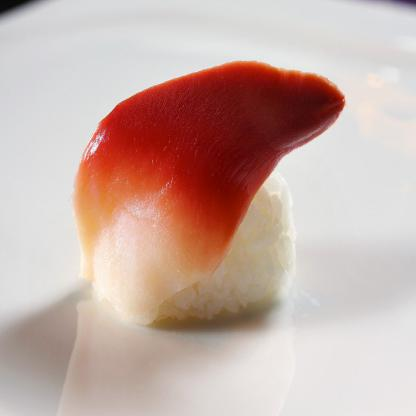hokkigai: (67, 56, 354, 339)
